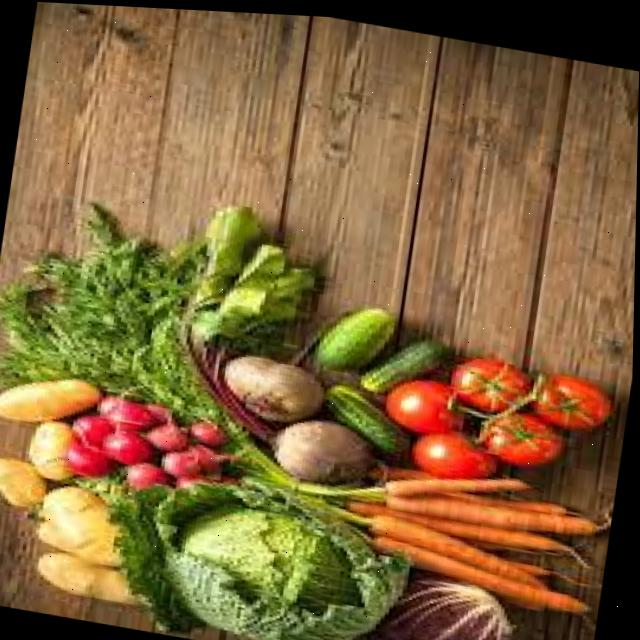Wet: (147, 461, 416, 640), (352, 448, 603, 612), (176, 214, 324, 421), (296, 313, 457, 460), (0, 449, 129, 603), (363, 564, 528, 640), (0, 355, 109, 438)
